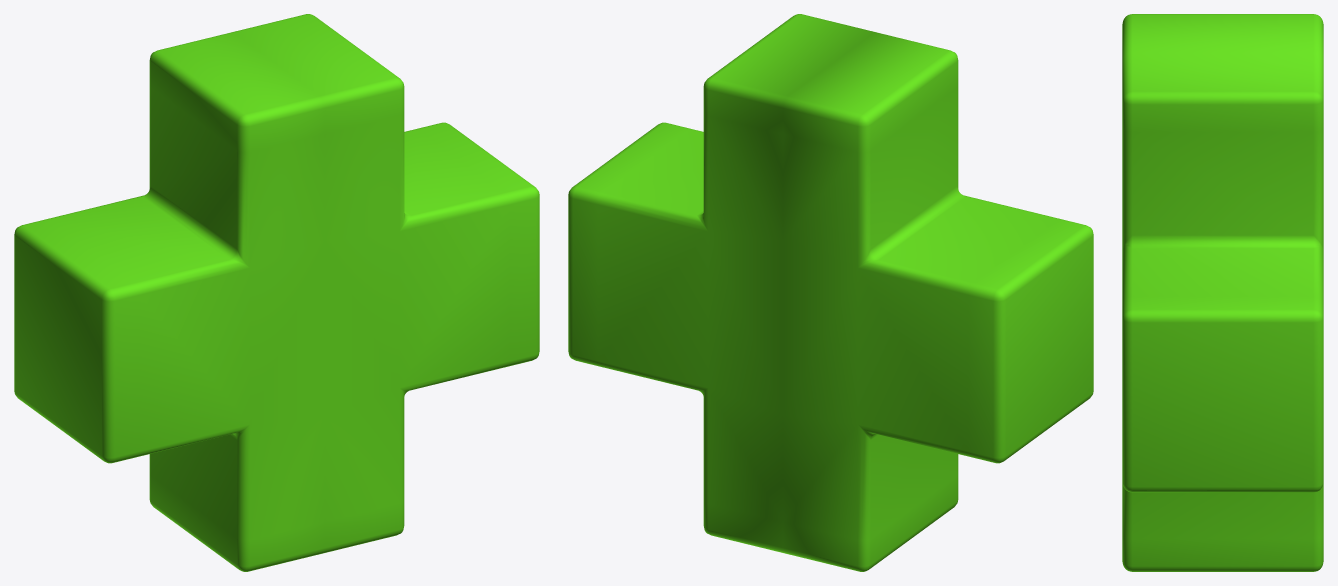
Rendered from Health.fbx.
The picture shows the model from 3 angles, left to right: view 1: azimuth 30°, elevation 25°; view 2: azimuth 150°, elevation 25°; view 3: azimuth 270°, elevation 25°; orthographic projection. The views are drawn at different scales.
Parts seen in each view (by area): view 1: Cube; view 2: Cube; view 3: Cube.
Boxes of the visible parts, x1,y1,x2,y2 form: Cube: (14, 14, 539, 571); Cube: (568, 14, 1093, 571); Cube: (1122, 14, 1323, 571).
Size of the model in its own units: 68.38 by 68.38 by 25.98.
